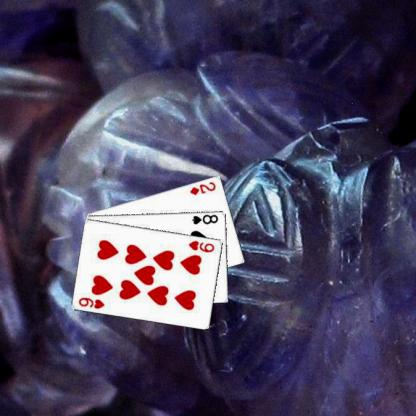2D: (188, 179, 216, 196)
8S: (190, 212, 219, 226)
9H: (77, 294, 106, 310), (186, 238, 216, 253)
